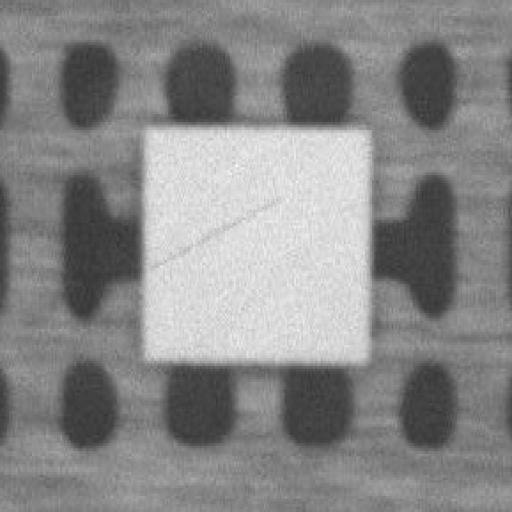DIE_CRACK: (223, 131, 414, 177)
